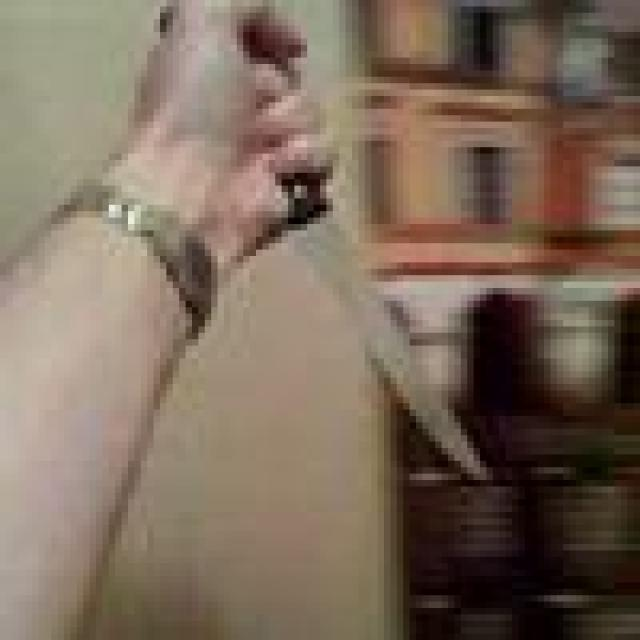knife: (289, 213, 483, 472)
